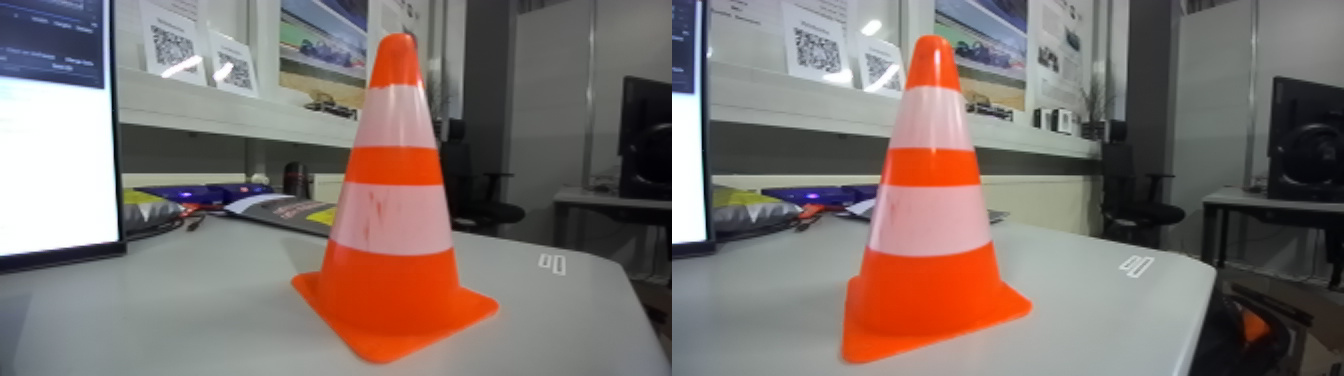cone: (297, 37, 509, 367), (844, 37, 1037, 371)
